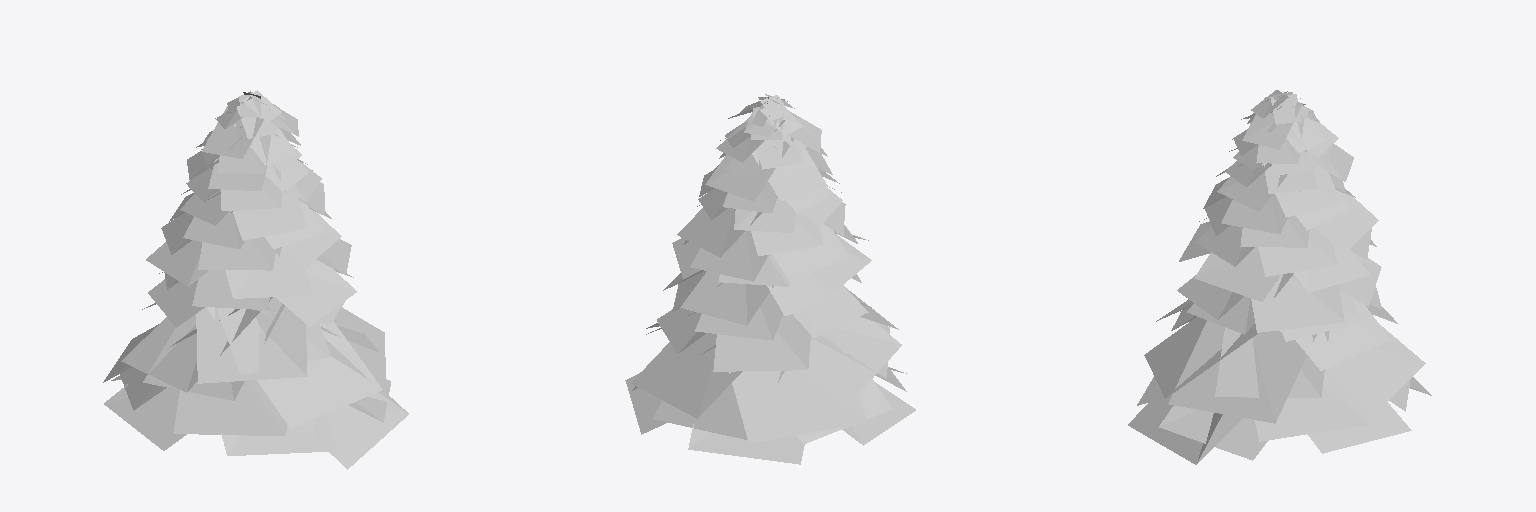
The model's file is pineleaves1.obj.
The picture shows the model from 3 angles: view 1: azimuth 30°, elevation 25°; view 2: azimuth 150°, elevation 25°; view 3: azimuth 270°, elevation 25°; orthographic projection.
Size of the model in its own units: 8.28 by 10.09 by 8.64.